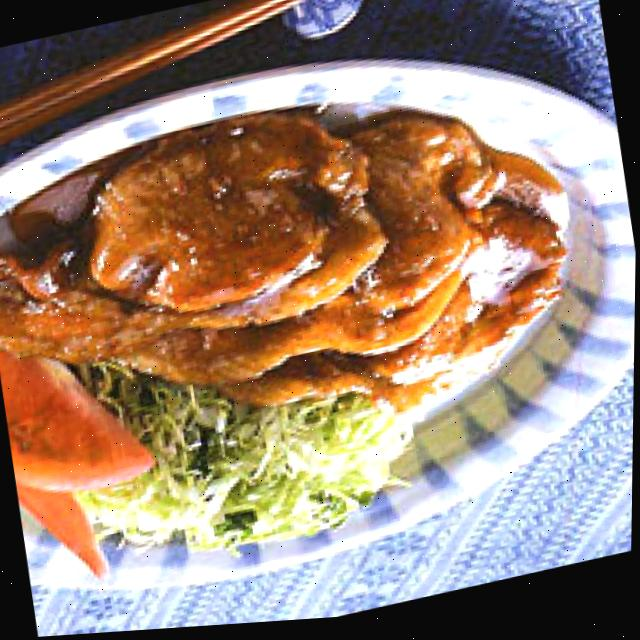猪肉菜式: (0, 46, 622, 487)
